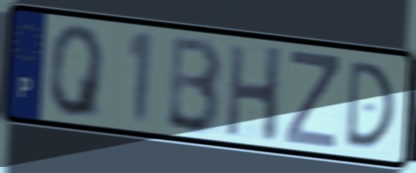1: (125, 28, 156, 129)
B: (163, 34, 224, 138)
D: (343, 58, 398, 150)
H: (223, 42, 285, 146)
Q: (47, 23, 108, 121)
Z: (283, 46, 341, 151)
